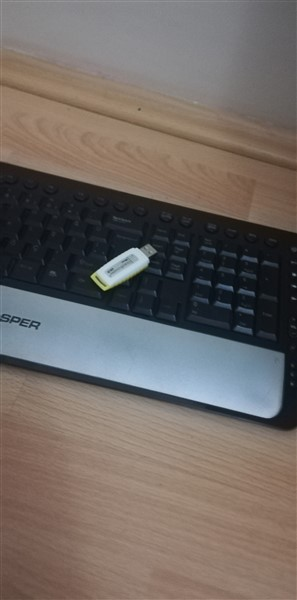flash disk: (84, 236, 157, 295)
klavye: (1, 153, 297, 434)
